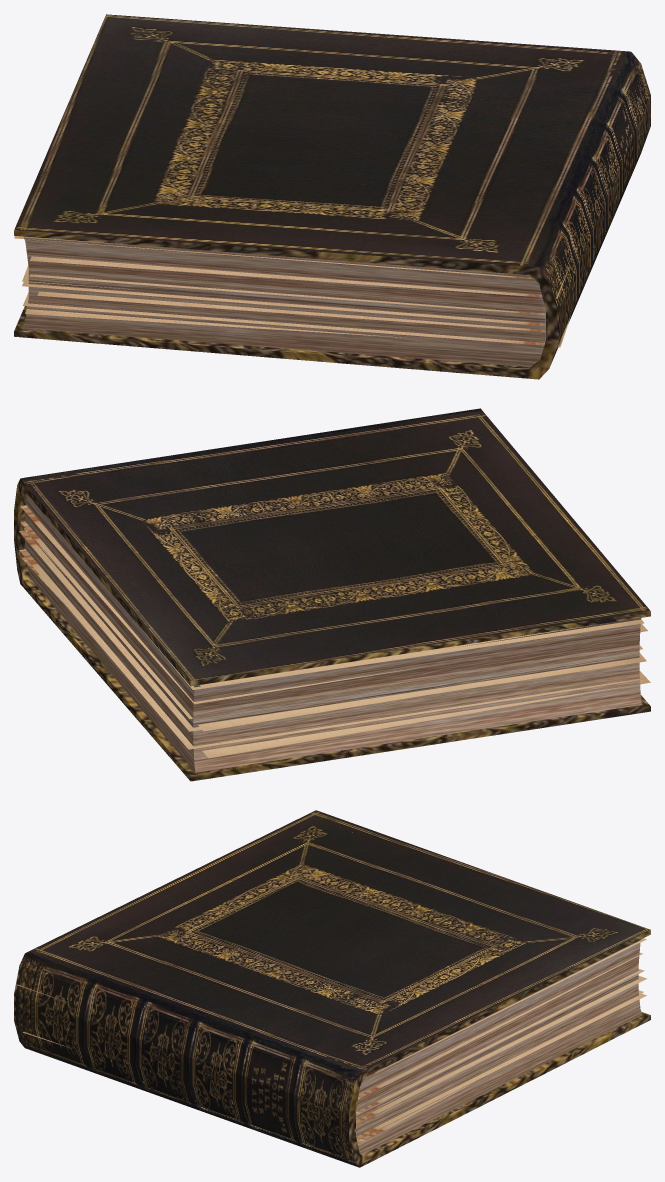
Rendered from BSN_Education_Ani_BookB.gltf.
3 renders of one model, top to bottom at view 1: azimuth 30°, elevation 25°; view 2: azimuth 150°, elevation 25°; view 3: azimuth 270°, elevation 25°, orthographic. The views are drawn at different scales.
Visible parts, largest first — view 1: book10; view 2: book10; view 3: book10.
Part boxes in pixels (box(x1,y1,x2,y2)): book10: box(14, 14, 650, 379); book10: box(14, 408, 650, 781); book10: box(14, 810, 650, 1167).
Bounding box in the file's own units: 18.45 × 3.01 × 18.35.
Materials: 1 (1 with a texture image).
